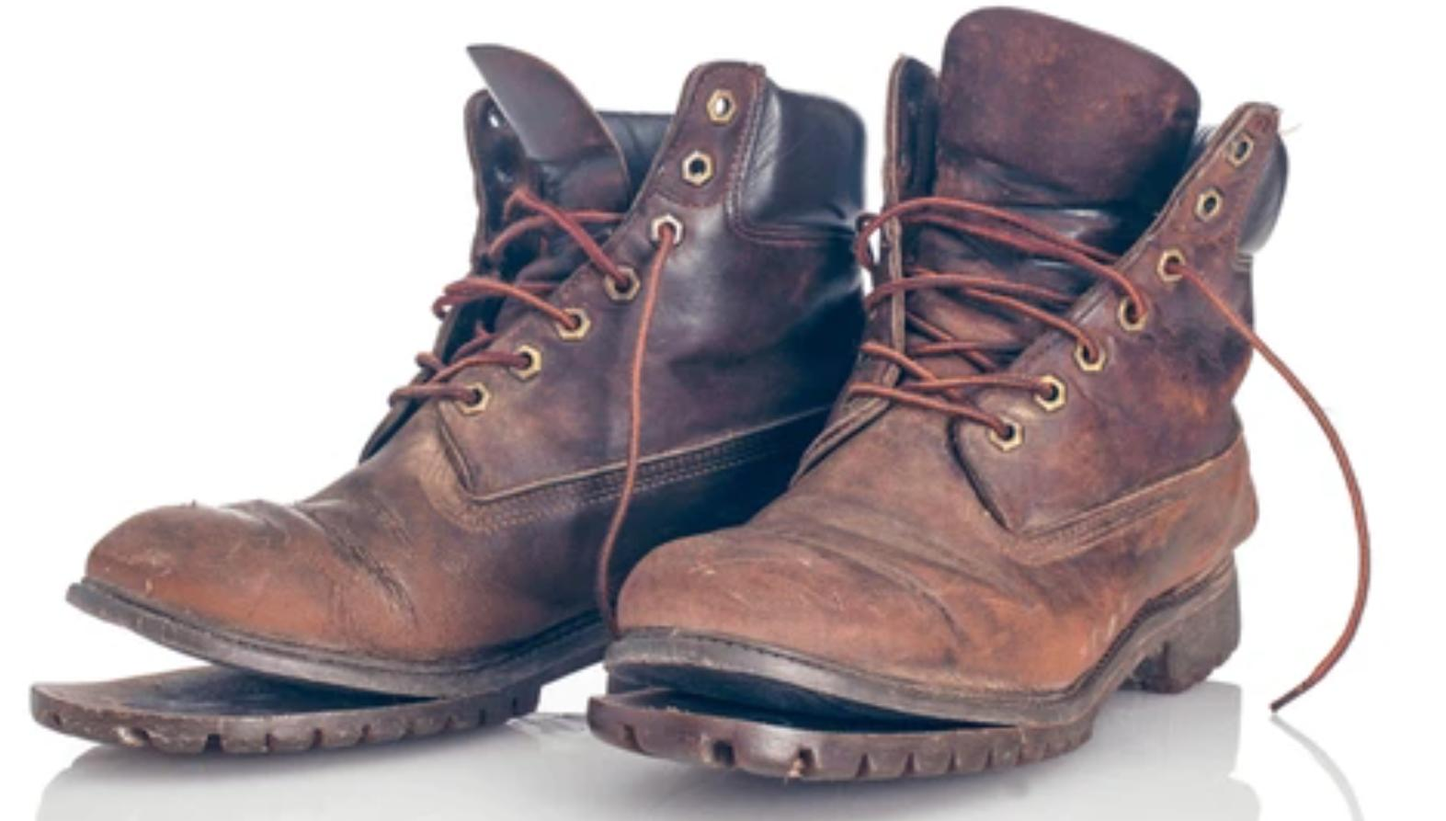bonding: (18, 565, 457, 735), (584, 635, 1042, 754)
